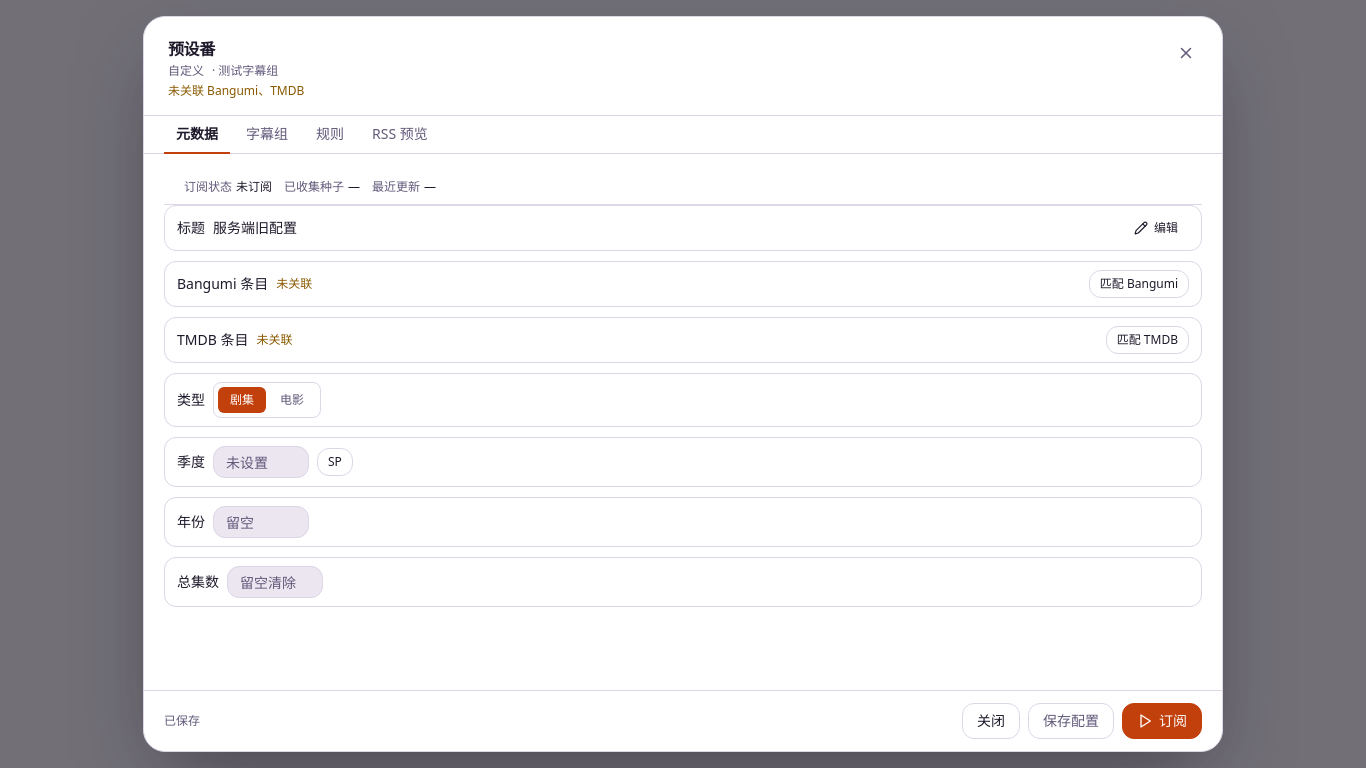
it: AnimeConfigDialog draft candidate loading › 版本冲突时重新加载最新 working 草稿并清掉本地冲突
Click the button with aria-label "编辑标题".
click(1156, 228)  # box left=1123, top=214, right=1189, bottom=242
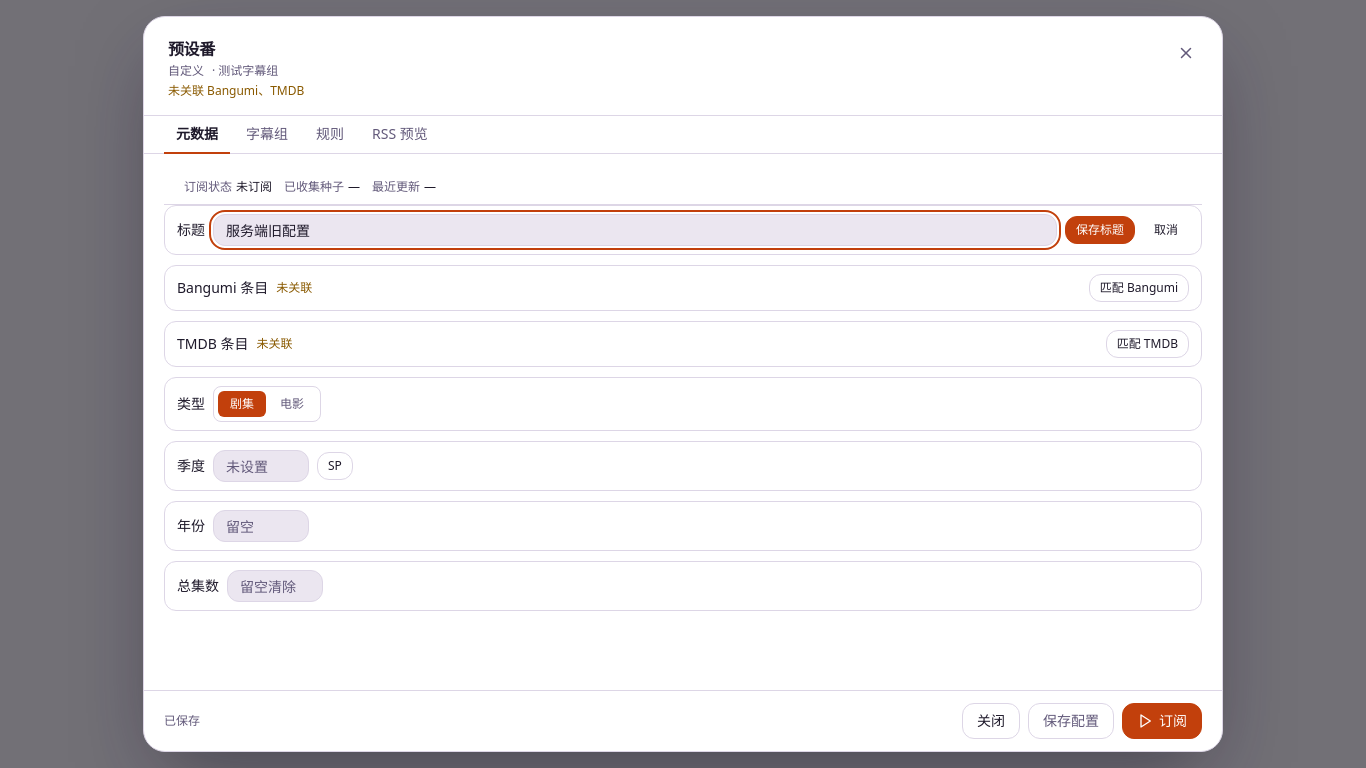
Replace the text in the field named "标题" with "本地未保存修改" at (635, 230), box left=213, top=214, right=1057, bottom=246
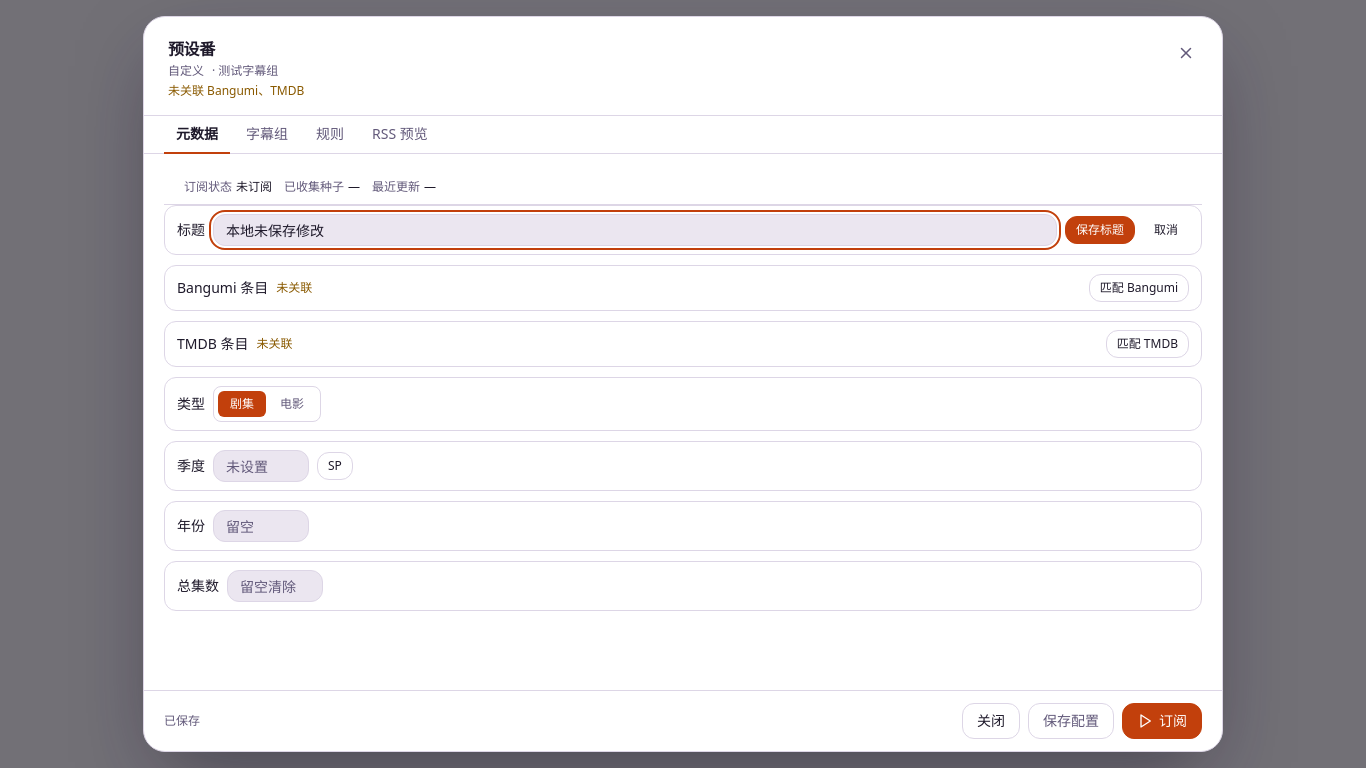
Click the button "保存标题".
click(1100, 230)  # box left=1065, top=216, right=1135, bottom=244
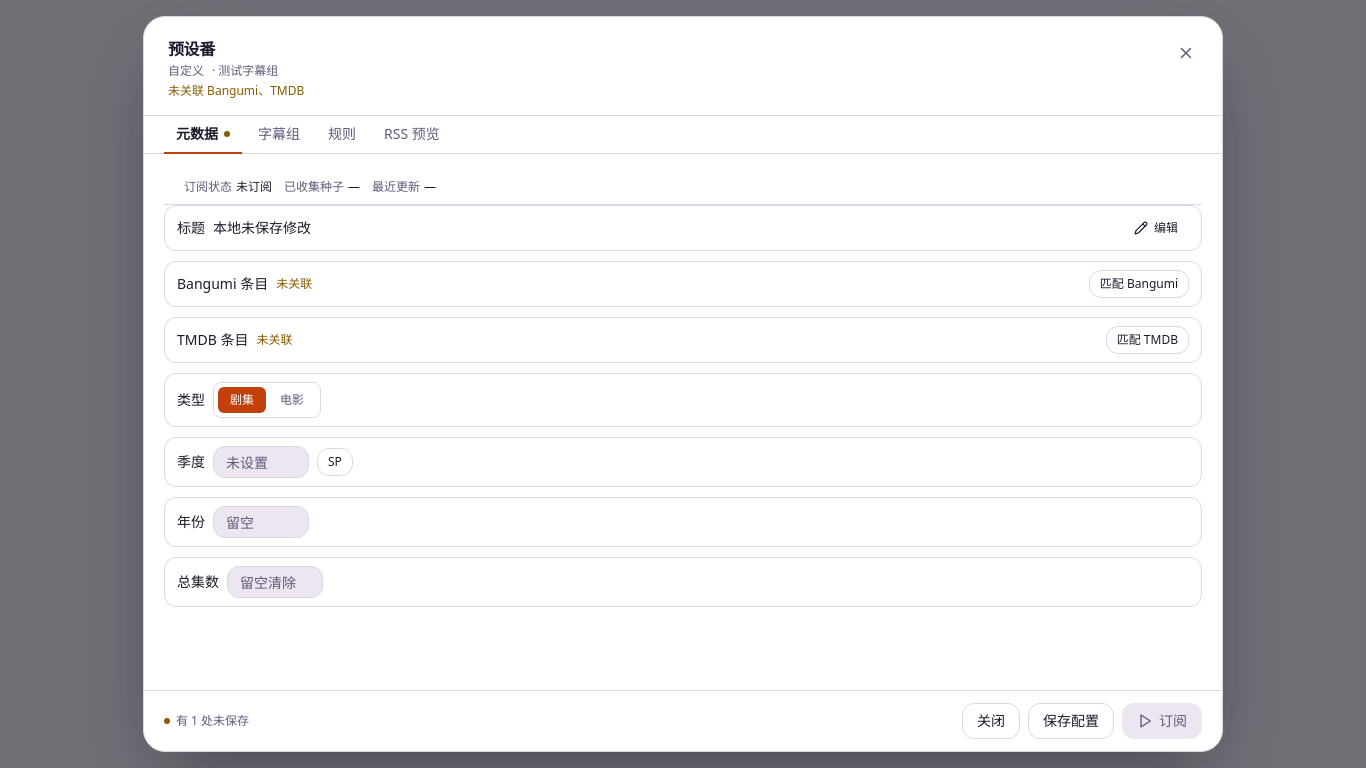
Click the button "保存配置".
click(1071, 721)  # box left=1028, top=703, right=1114, bottom=739
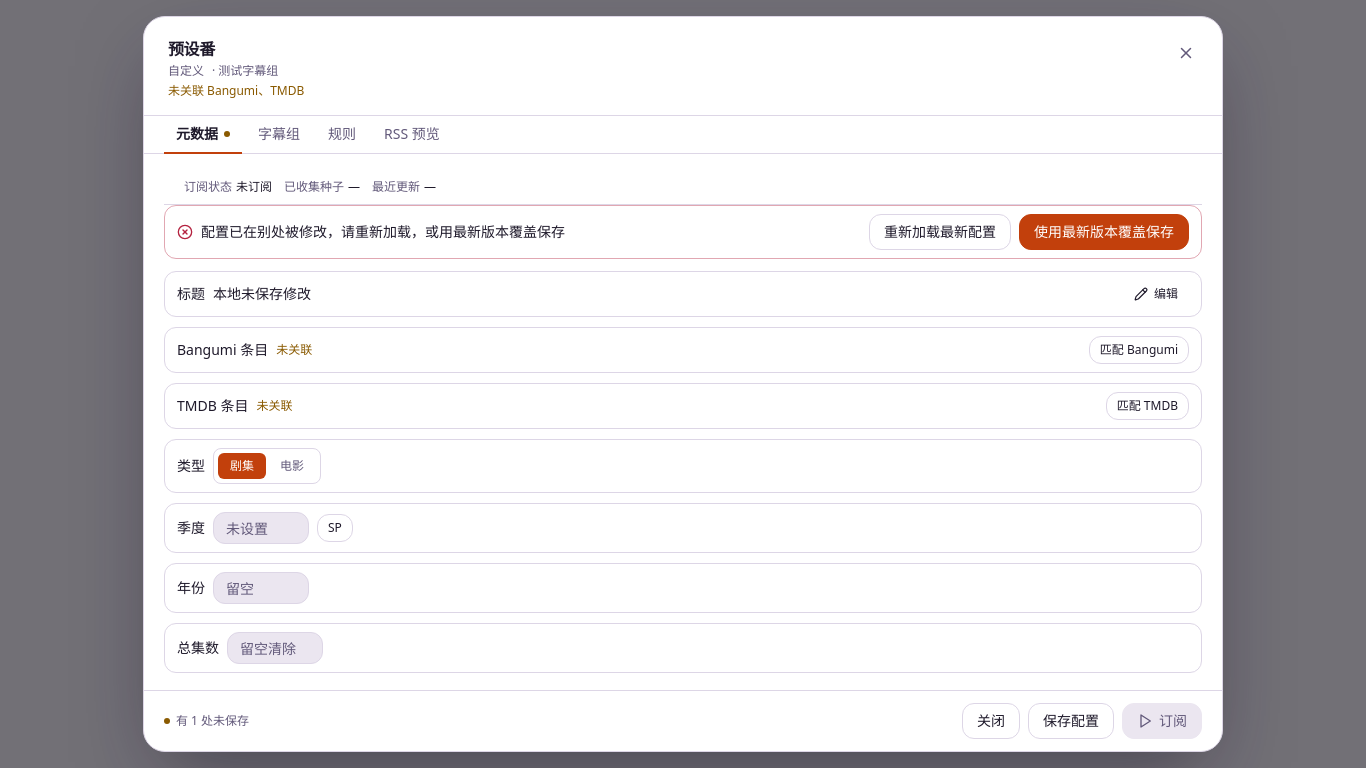
Check: the text "配置已在别处被修改，请重新加载，或用最新版本覆盖保存" is shown, box left=201, top=222, right=565, bottom=241
Click the button "重新加载最新配置".
click(940, 232)  # box left=869, top=214, right=1011, bottom=250
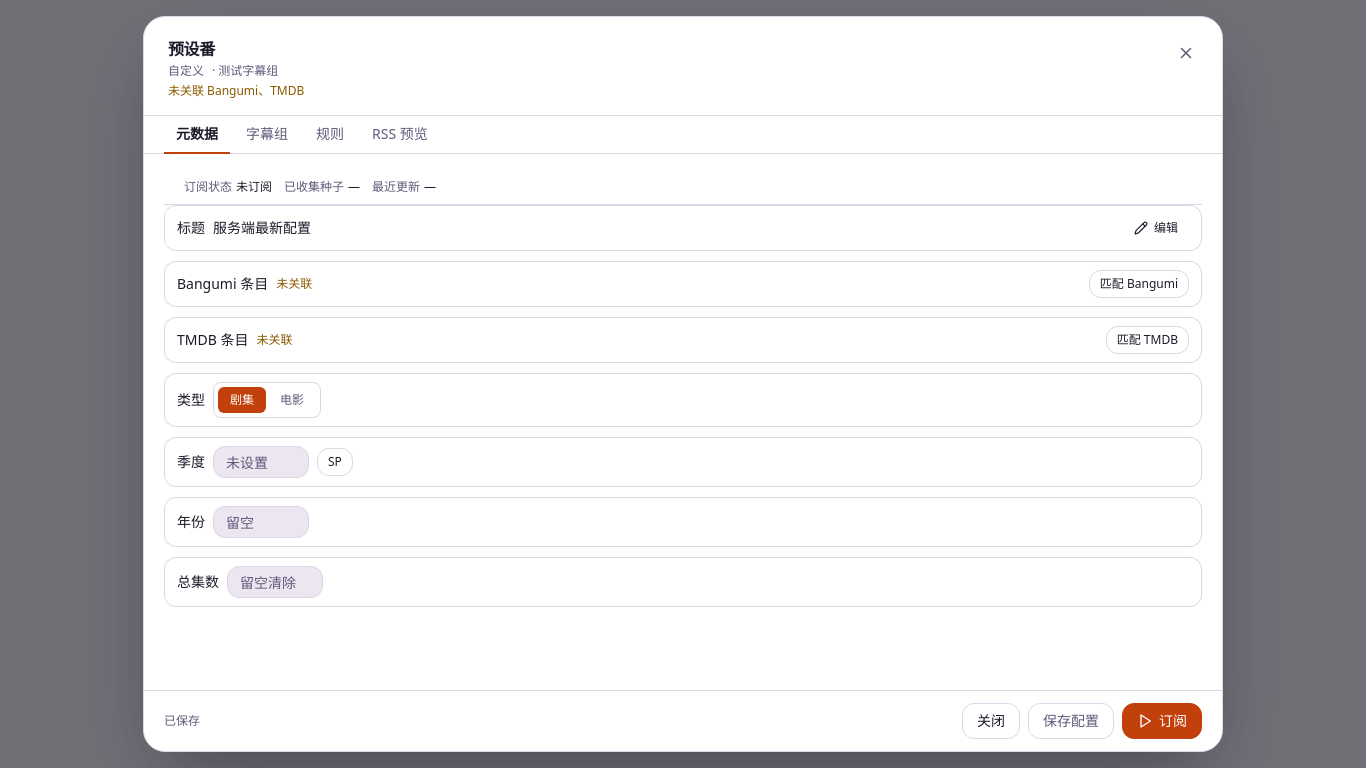
Check: the text "服务端最新配置" is shown, box left=213, top=218, right=311, bottom=237
Check: the text "已保存" is shown, box left=164, top=713, right=200, bottom=729
